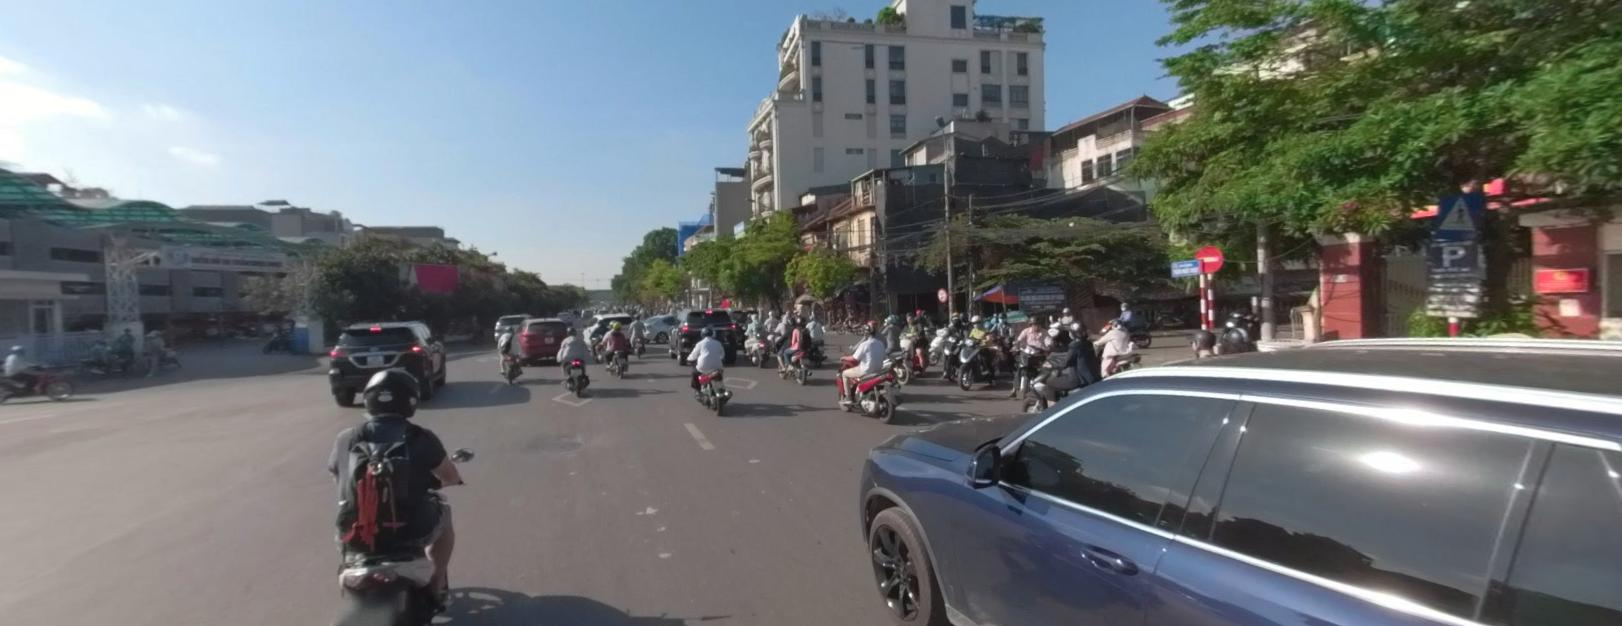Cam nguoc chieu: (1194, 245, 1222, 271)
